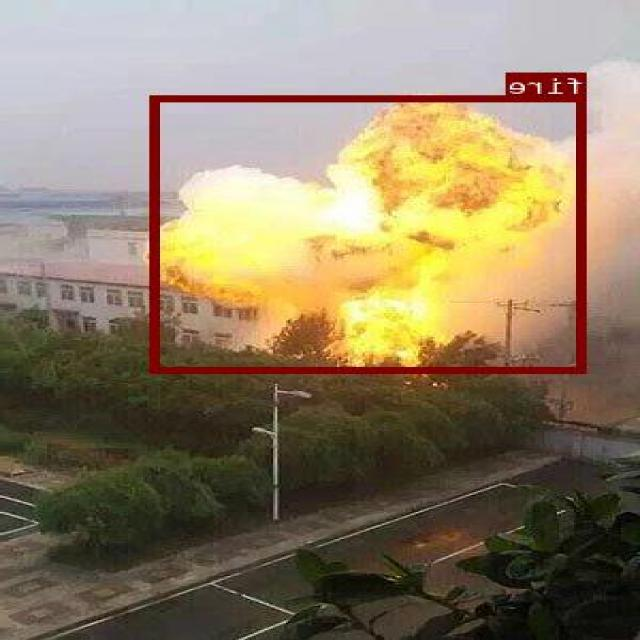fire: (152, 95, 589, 372)
